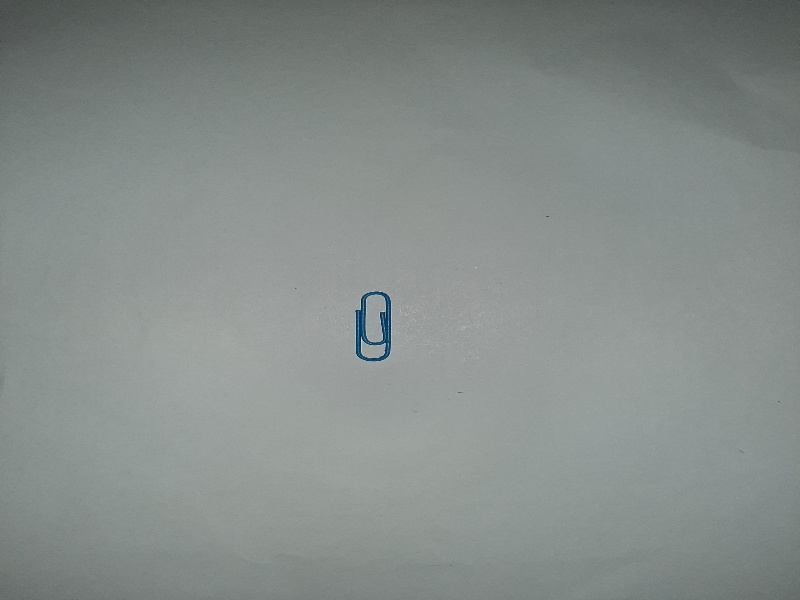Small Jumpclip: (351, 283, 397, 367)
